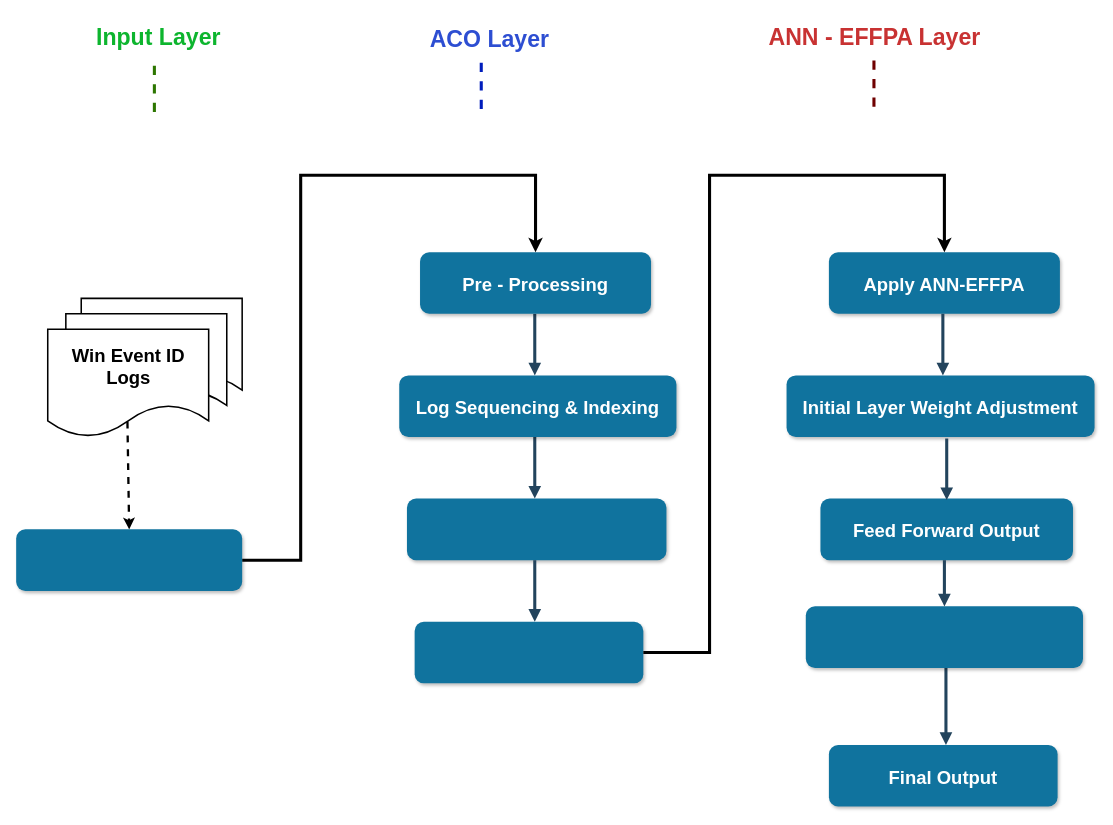
The diagram is 1113 pixels wide and 825 high, and some of its shapes have lost their labels. Each missing label, with the centre of its shape:
Input Data: [129,561]
IOC Identification: [529,653]
Layer ++ Weight Adjustment: [944,638]
Log Optimization: [537,530]
